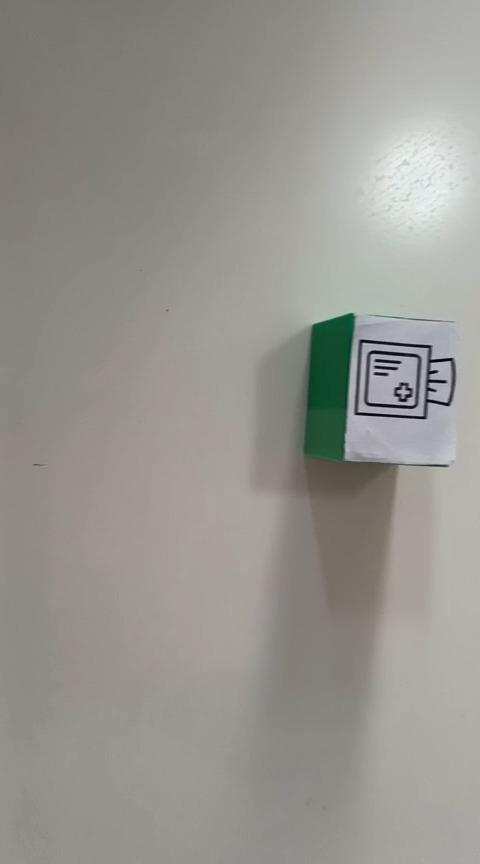Gauze: (302, 311, 459, 467)
